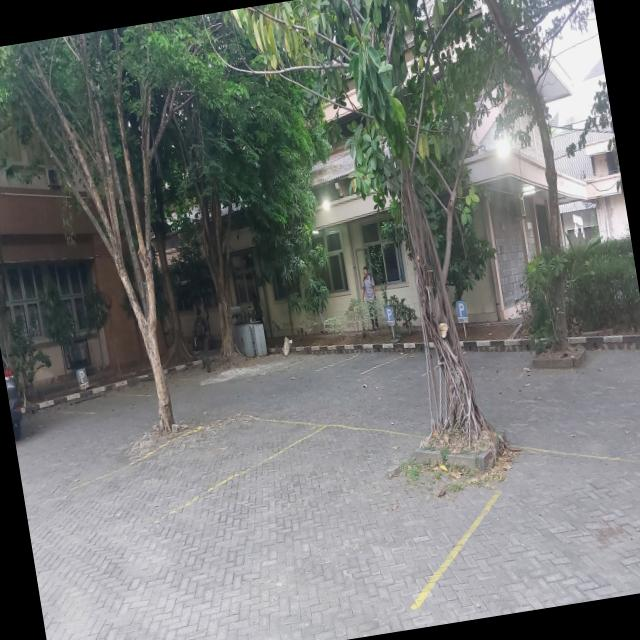free: (409, 446, 640, 614), (152, 423, 435, 559), (69, 413, 328, 524), (360, 352, 439, 378), (315, 353, 408, 374), (464, 352, 535, 378)
